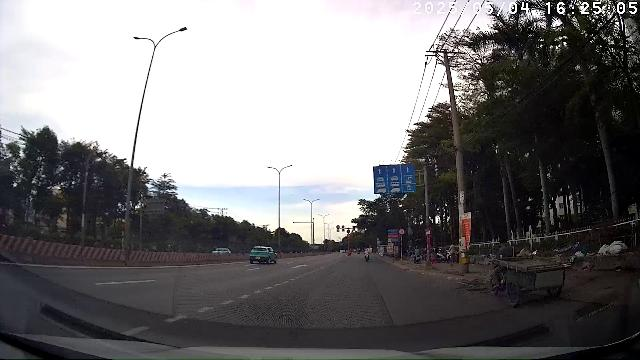127-toc-do-toi-da-50: (398, 228, 406, 235)
